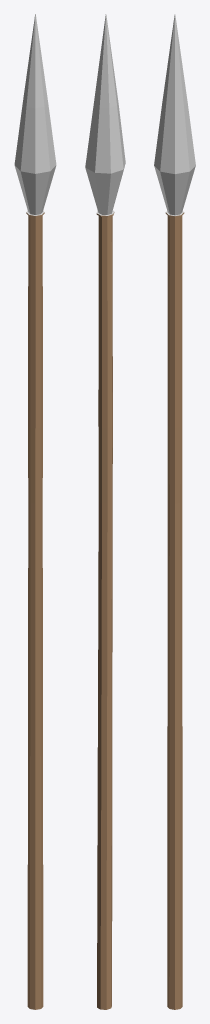
Rendered from Spear.fbx.
3 views of the same model, side by side, from view 1: azimuth 90°, elevation 25°; view 2: azimuth 150°, elevation 25°; view 3: azimuth 270°, elevation 25° (orthographic).
Visible parts, largest first — view 1: Cube; view 2: Cube; view 3: Cube.
Part boxes in pixels (x1=…): Cube: x1=14, y1=14, x2=56, y2=1009; Cube: x1=85, y1=14, x2=125, y2=1009; Cube: x1=154, y1=14, x2=195, y2=1009.
Bounding box in the file's own units: 4.85 × 127 × 4.85.
